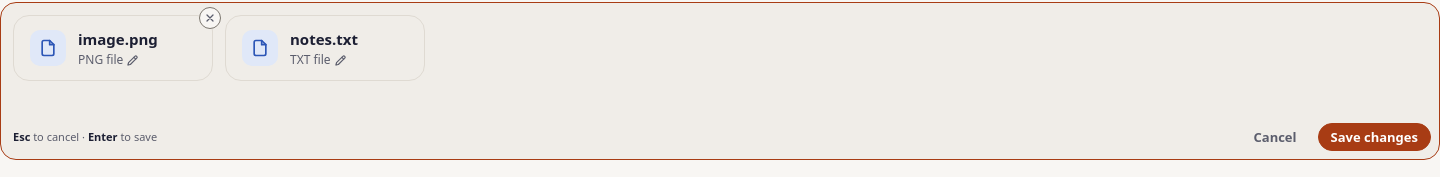
it: MessageEditor › needs text or an embed to save, and keeps an upload being written
Step 1. Click the button named "Remove image.png" → click(210, 18), box [199,7,221,29]
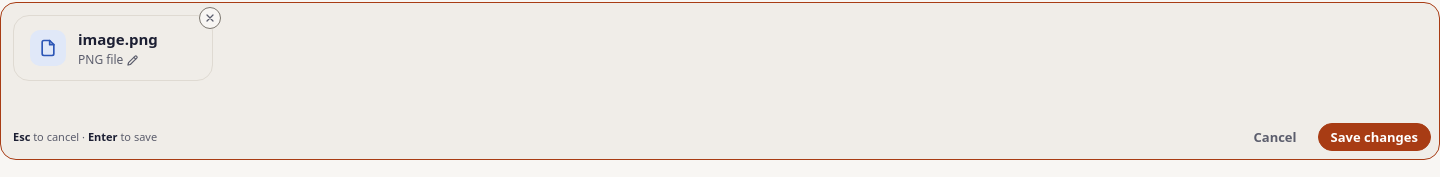
Expected: the button "Cancel" is enabled, [1240,123,1310,151]
Step 2. Click the button named "Remove image.png" → click(210, 18), box [199,7,221,29]
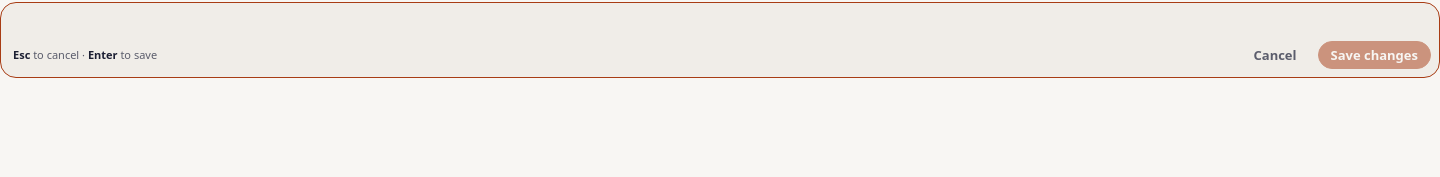
Result: the button "Save changes" is disabled at [1318,41,1431,69]
